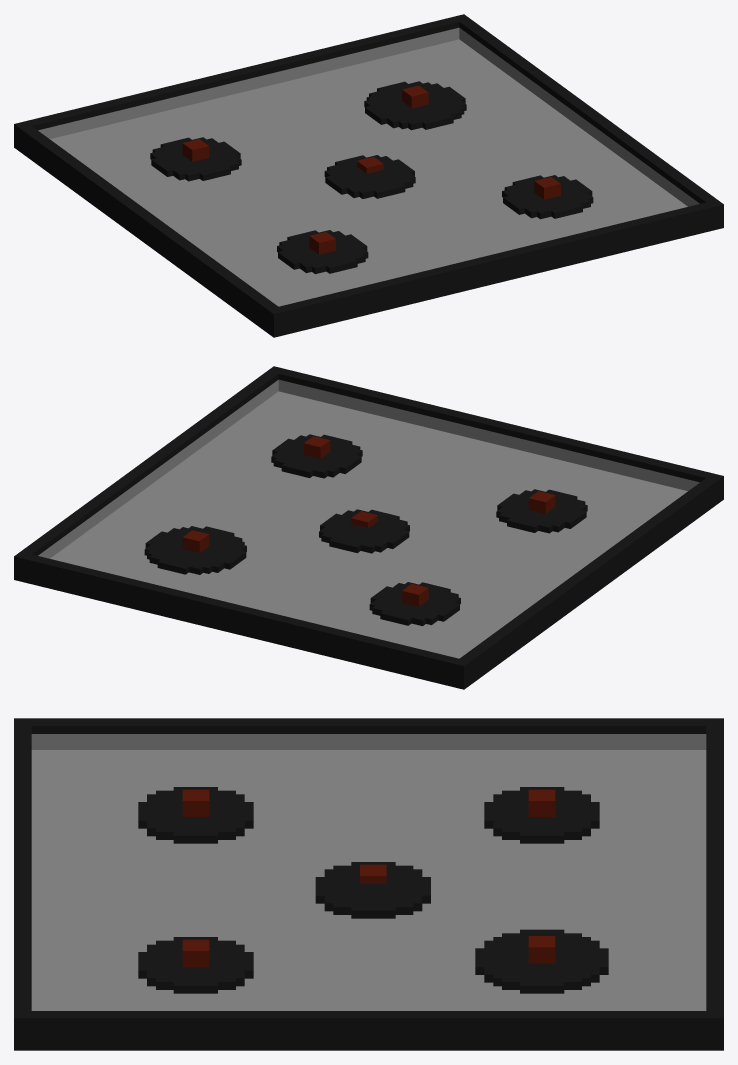
The model's file is changpan.obj.
3 renders of one model, top to bottom at view 1: azimuth 30°, elevation 25°; view 2: azimuth 150°, elevation 25°; view 3: azimuth 270°, elevation 25°, orthographic. The views are drawn at different scales.
Parts seen in each view (by area): view 1: changpan; view 2: changpan; view 3: changpan.
Part boxes in pixels (x1=…): changpan: x1=14, y1=14, x2=723, y2=337; changpan: x1=14, y1=366, x2=723, y2=689; changpan: x1=14, y1=718, x2=723, y2=1050.
Size of the model in its own units: 80 by 4 by 80.
Materials: 1 (1 with a texture image).
